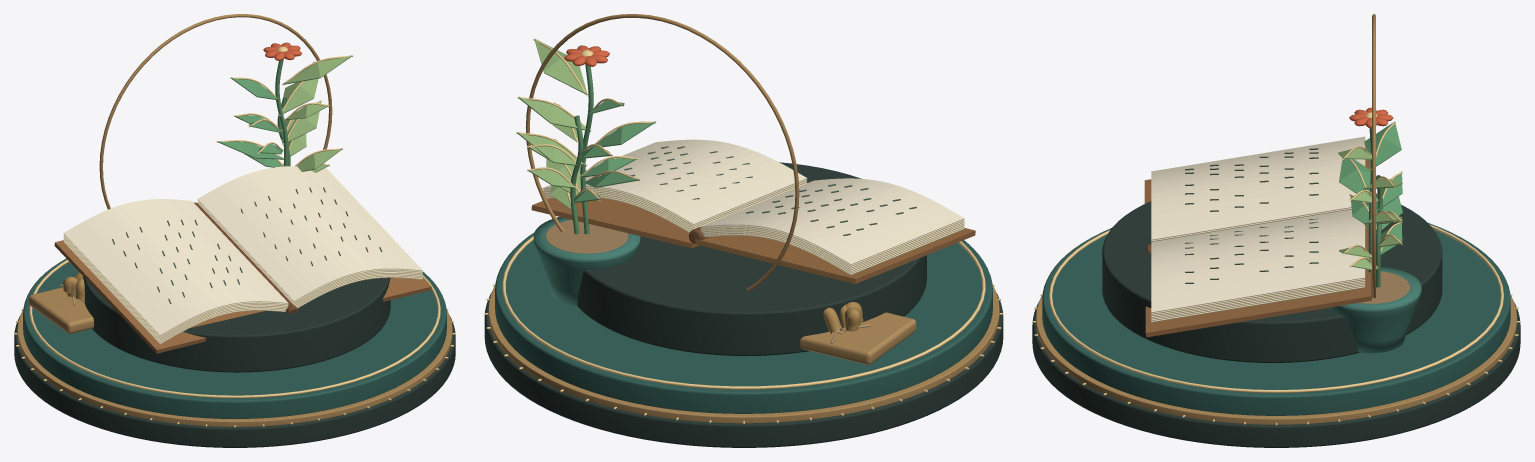
Rendered from bencao.glb.
The picture shows the model from 3 angles, left to right: view 1: azimuth 30°, elevation 25°; view 2: azimuth 150°, elevation 25°; view 3: azimuth 270°, elevation 25°; orthographic projection. The views are drawn at different scales.
Parts seen in each view (by area): view 1: architecture__宣纸, architecture__玄色石.001, architecture__深墨玉 · polished jade.001, architecture__旧黄铜.001, architecture__旧书页, architecture__暖金镶线.001, architecture__木纹边, architecture__本草嫩叶, architecture__本草叶, architecture__墨迹, architecture__深色书案, architecture__朱砂花 (+1 smaller); view 2: architecture__玄色石.001, architecture__深墨玉 · polished jade.001, architecture__宣纸, architecture__旧黄铜.001, architecture__木纹边, architecture__暖金镶线.001, architecture__旧书页, architecture__本草嫩叶, architecture__本草叶, architecture__青绿石, architecture__黄褐土, architecture__墨迹 (+2 smaller); view 3: architecture__深墨玉 · polished jade.001, architecture__玄色石.001, architecture__宣纸, architecture__旧黄铜.001, architecture__木纹边, architecture__暖金镶线.001, architecture__青绿石, architecture__本草叶, architecture__旧书页, architecture__本草嫩叶, architecture__墨迹, architecture__黄褐土 (+1 smaller).
Boxes of the visible parts, <box> form: architecture__宣纸: <box>63,166,422,335</box>; architecture__玄色石.001: <box>14,276,455,447</box>; architecture__深墨玉 · polished jade.001: <box>23,258,446,418</box>; architecture__旧黄铜.001: <box>17,14,452,426</box>; architecture__旧书页: <box>63,200,422,344</box>; architecture__暖金镶线.001: <box>14,46,455,427</box>; architecture__木纹边: <box>54,240,431,353</box>; architecture__本草嫩叶: <box>279,55,352,172</box>; architecture__本草叶: <box>217,59,290,167</box>; architecture__墨迹: <box>112,187,382,304</box>; architecture__深色书案: <box>194,202,297,312</box>; architecture__朱砂花: <box>263,42,301,60</box>; architecture__玄色石.001: <box>484,162,1003,447</box>; architecture__深墨玉 · polished jade.001: <box>495,232,992,413</box>; architecture__宣纸: <box>542,139,964,264</box>; architecture__旧黄铜.001: <box>488,14,999,423</box>; architecture__木纹边: <box>531,198,975,283</box>; architecture__暖金镶线.001: <box>484,39,1003,423</box>; architecture__旧书页: <box>543,179,964,275</box>; architecture__本草嫩叶: <box>517,39,590,209</box>; architecture__本草叶: <box>570,64,655,234</box>; architecture__青绿石: <box>533,217,640,305</box>; architecture__黄褐土: <box>545,220,628,253</box>; architecture__墨迹: <box>624,146,916,235</box>; architecture__深墨玉 · polished jade.001: <box>1042,223,1510,415</box>; architecture__玄色石.001: <box>1032,194,1520,447</box>; architecture__宣纸: <box>1151,136,1365,312</box>; architecture__旧黄铜.001: <box>1036,14,1516,424</box>; architecture__木纹边: <box>1144,147,1371,337</box>; architecture__暖金镶线.001: <box>1032,112,1520,425</box>; architecture__青绿石: <box>1329,266,1421,353</box>; architecture__本草叶: <box>1339,121,1402,287</box>; architecture__旧书页: <box>1151,208,1365,322</box>; architecture__本草嫩叶: <box>1338,148,1402,270</box>; architecture__墨迹: <box>1185,148,1318,283</box>; architecture__黄褐土: <box>1359,271,1410,303</box>.
Bounding box in the file's own units: 3.5 × 2.62 × 3.5.
